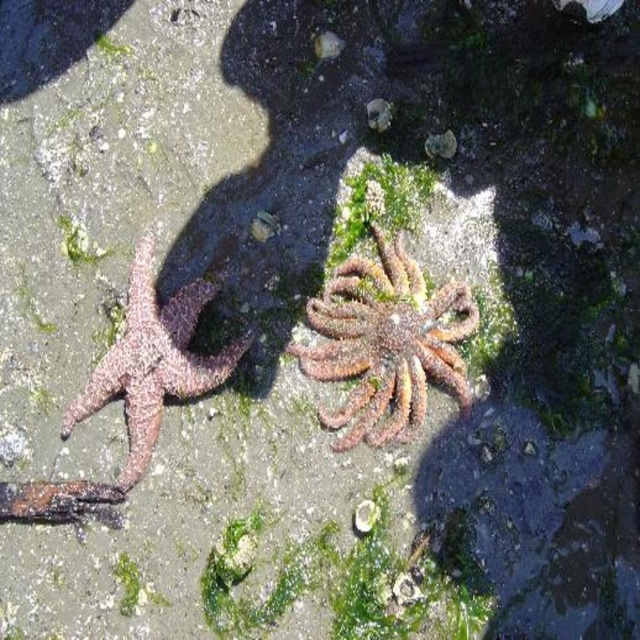Starfish: (61, 223, 255, 493), (283, 222, 480, 453)
